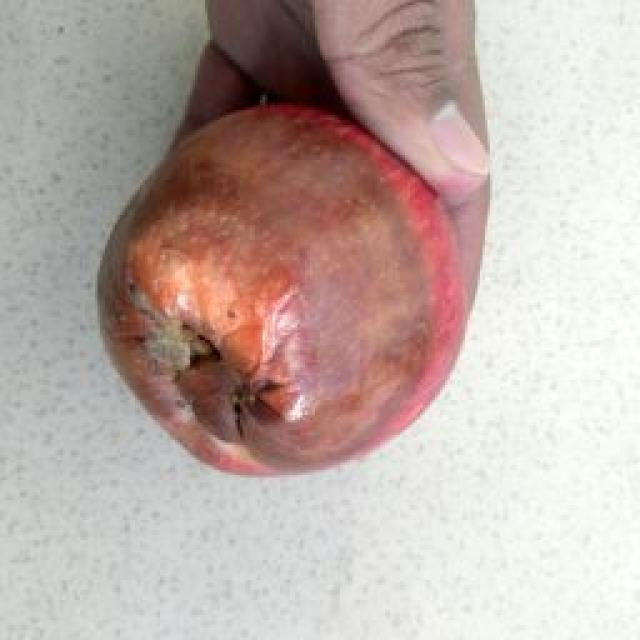Bad_Apple: (99, 104, 466, 473)
